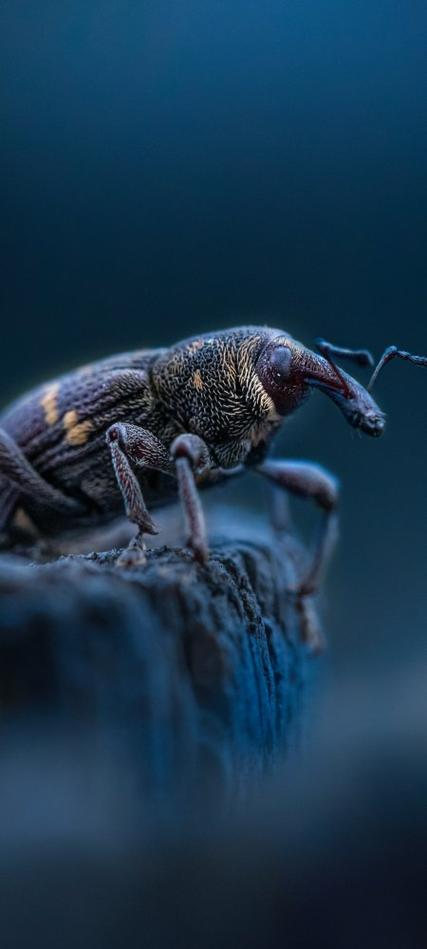Curculionidae: (1, 323, 427, 656)
